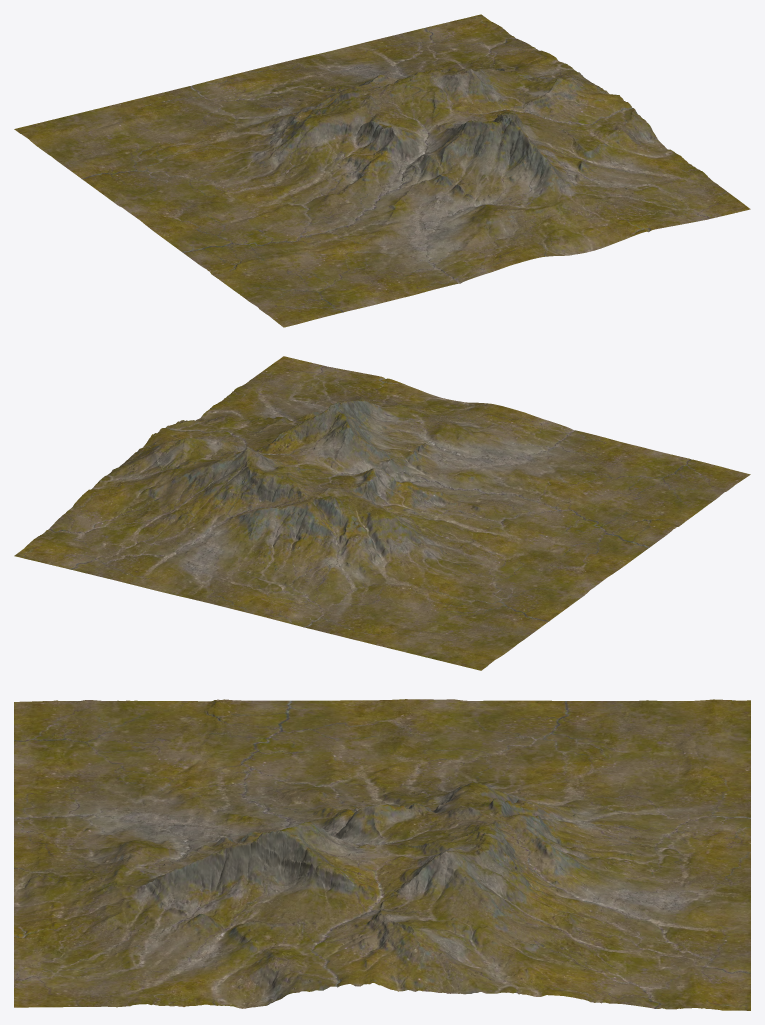
File: rugged_mountain_landscape.glb
3 views of the same model, one above another, from view 1: azimuth 30°, elevation 25°; view 2: azimuth 150°, elevation 25°; view 3: azimuth 270°, elevation 25° (orthographic). The views are drawn at different scales.
Parts seen in each view (by area): view 1: Mesh_DefaultMaterial_0; view 2: Mesh_DefaultMaterial_0; view 3: Mesh_DefaultMaterial_0.
Part boxes in pixels (bbox=[...]): Mesh_DefaultMaterial_0: bbox=[14, 14, 750, 327]; Mesh_DefaultMaterial_0: bbox=[14, 356, 750, 670]; Mesh_DefaultMaterial_0: bbox=[14, 699, 750, 1010].
Size of the model in its own units: 49.99 by 6.4 by 49.99.
1 material, 1 textured.
